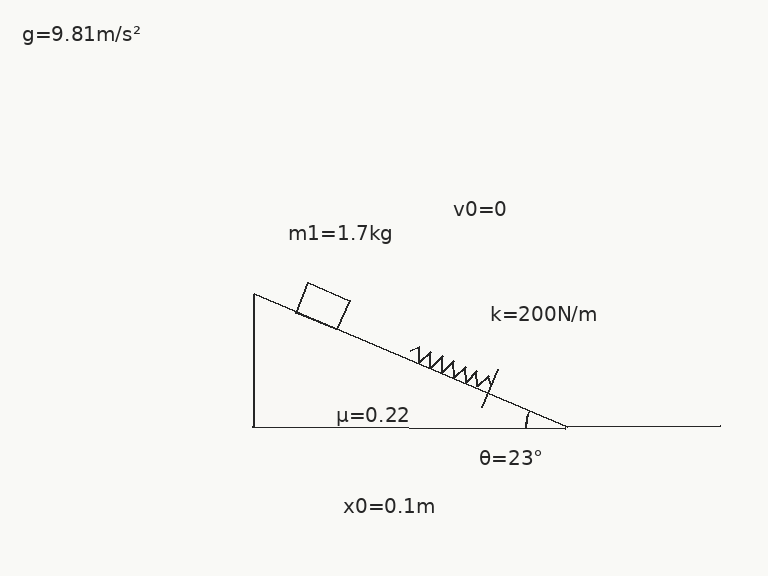block: (293, 280, 351, 331)
ramp: (251, 292, 568, 429)
spring: (408, 345, 493, 389)
